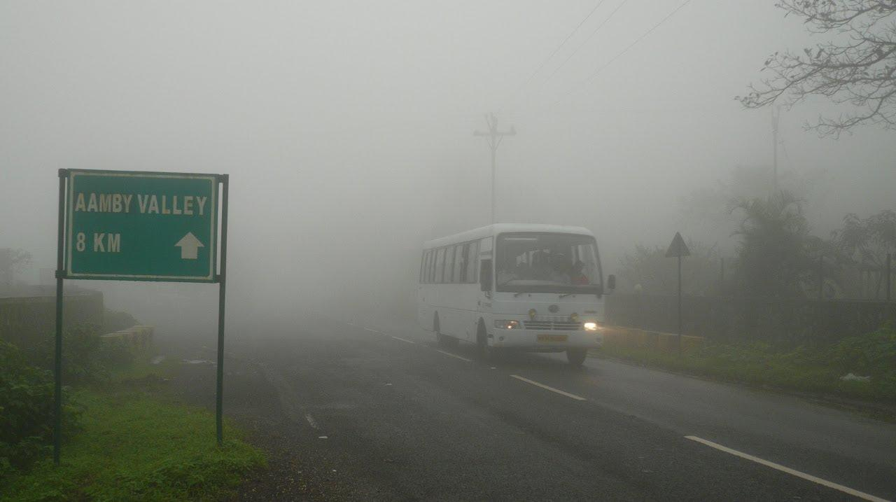bus: (411, 220, 619, 368)
